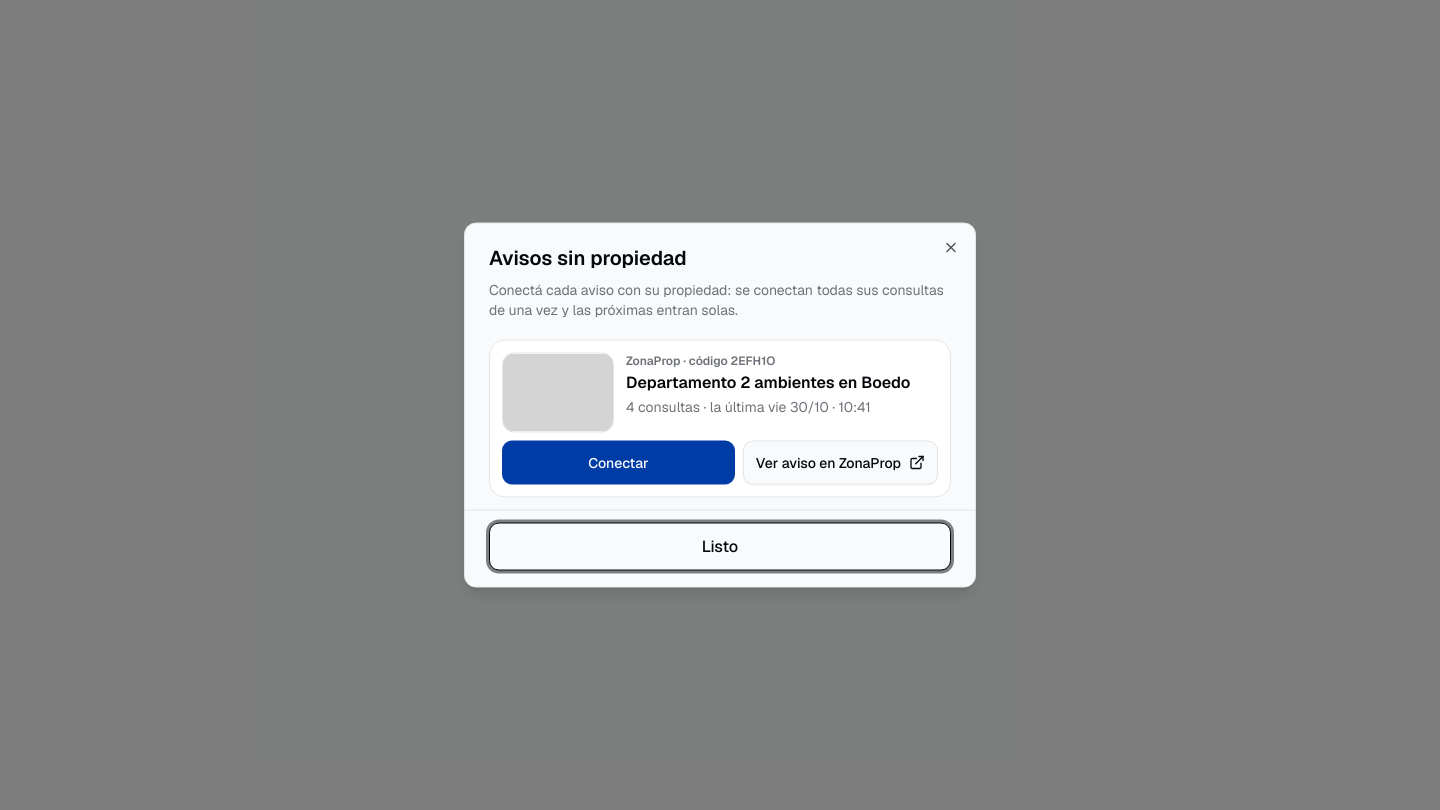
HojaAvisosSinPropiedad › propone a quien ya muestra otro aviso de la propiedad
The image size is (1440, 810).
Click the button "Conectar": {"x": 618, "y": 462} x1=502 y1=440 x2=735 y2=484
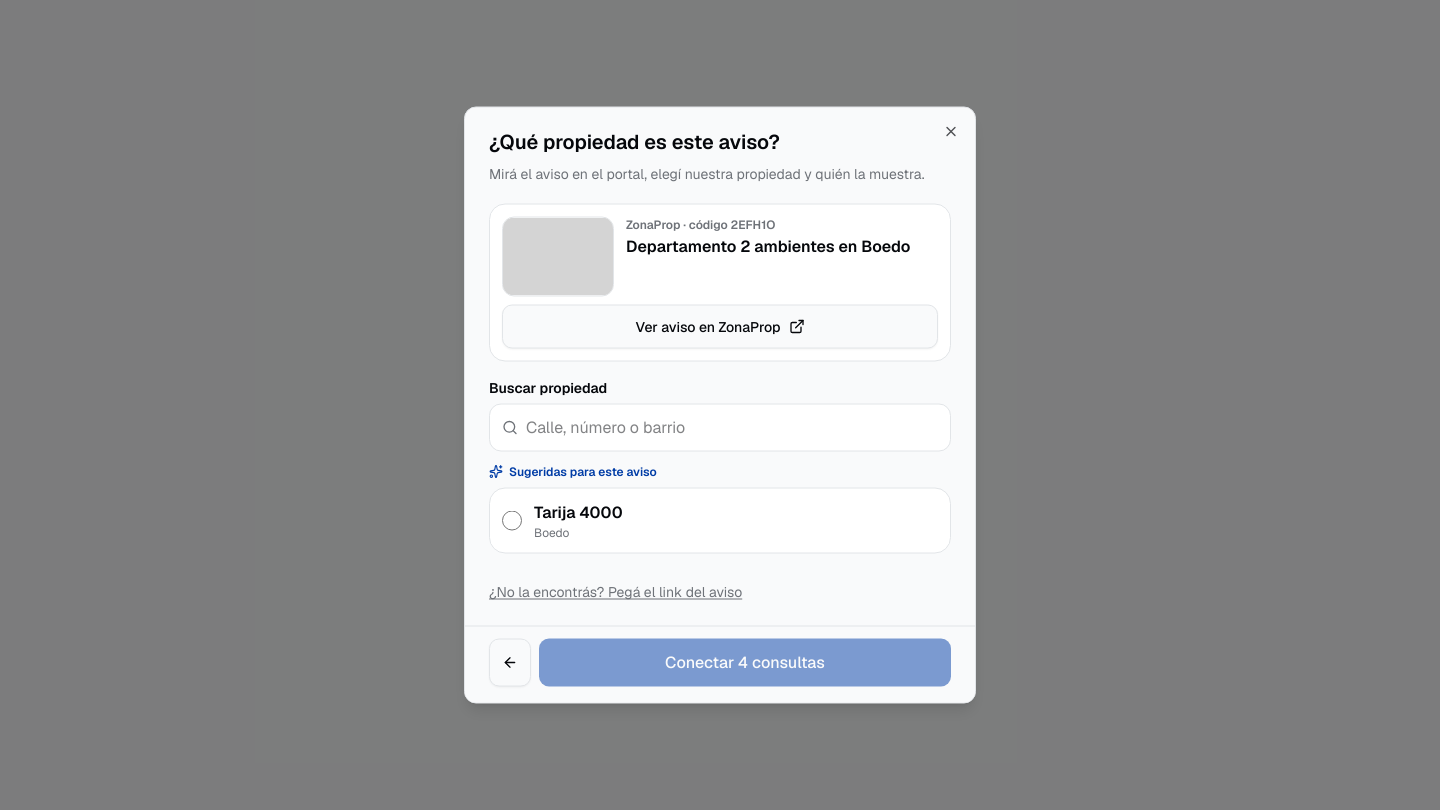
Click the radio button labelled "Tarija 4000 Boedo": {"x": 512, "y": 520} x1=502 y1=510 x2=522 y2=530
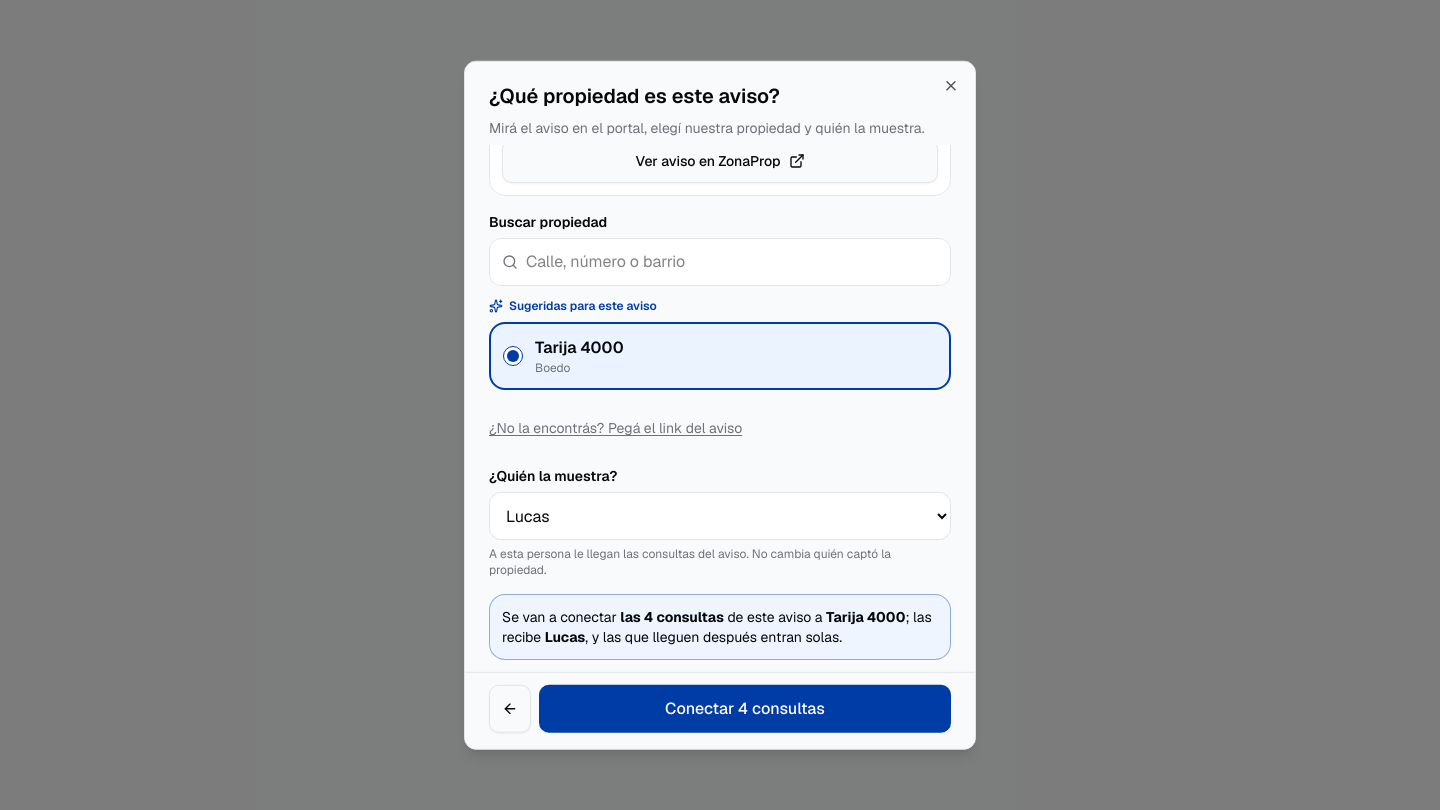
Expected: the dropdown labelled "Quién la muestra" shows "Lucas", x1=489 y1=492 x2=951 y2=540
Expected: the button "Conectar 4 consultas" is enabled, x1=539 y1=684 x2=951 y2=732
